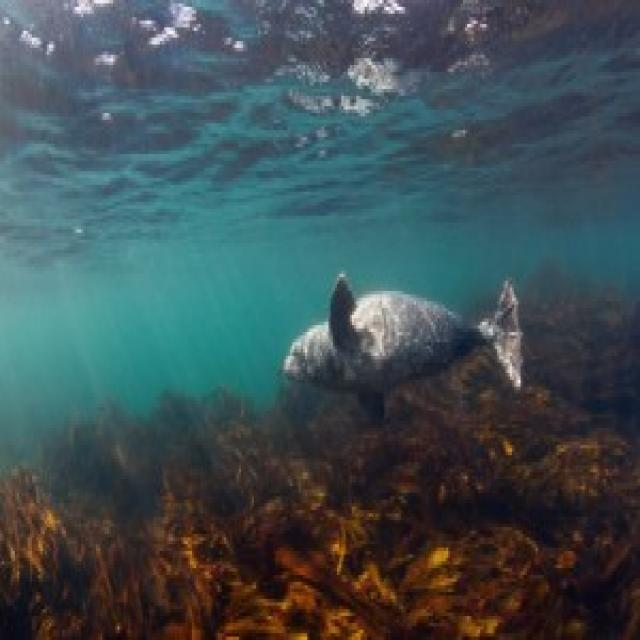Seal: (268, 255, 534, 417)
